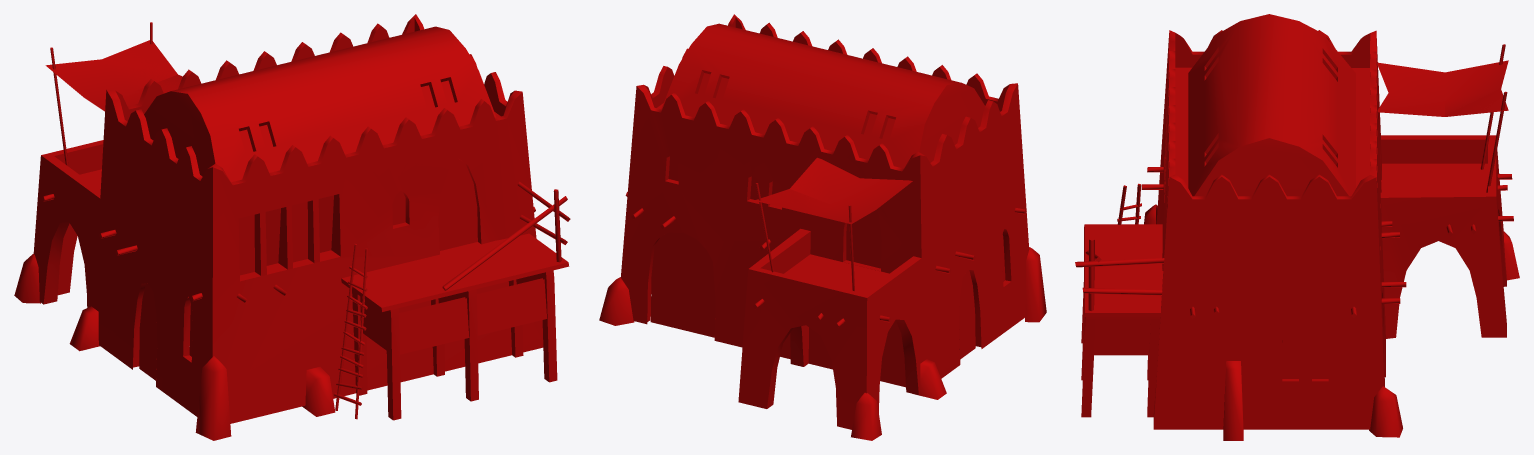
The model's file is harbor_01_orient_2_lod0.glb.
3 views of the same model, side by side, from view 1: azimuth 30°, elevation 25°; view 2: azimuth 150°, elevation 25°; view 3: azimuth 270°, elevation 25° (orthographic). The views are drawn at different scales.
Parts seen in each view (by area): view 1: MODEL_harbor_01_colony_lod0; view 2: MODEL_harbor_01_colony_lod0; view 3: MODEL_harbor_01_colony_lod0.
Boxes of the visible parts, box(x1,y1,x2,y2) form: MODEL_harbor_01_colony_lod0: box(14, 14, 570, 440); MODEL_harbor_01_colony_lod0: box(599, 14, 1046, 440); MODEL_harbor_01_colony_lod0: box(1075, 14, 1519, 440).
Size of the model in its own units: 2.33 by 1.72 by 2.49.
